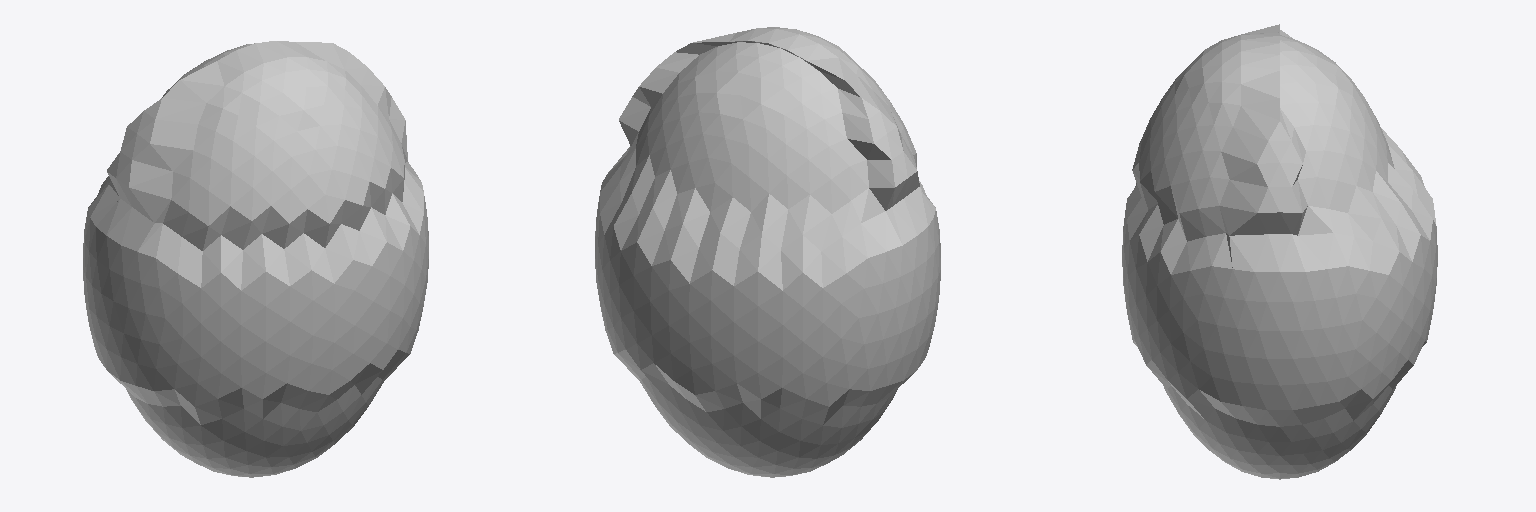
The model's file is normal_after.obj.
3 views of the same model, side by side, from view 1: azimuth 30°, elevation 25°; view 2: azimuth 150°, elevation 25°; view 3: azimuth 270°, elevation 25° (orthographic).
Bounding box in the file's own units: 1.31 × 1.72 × 1.16.